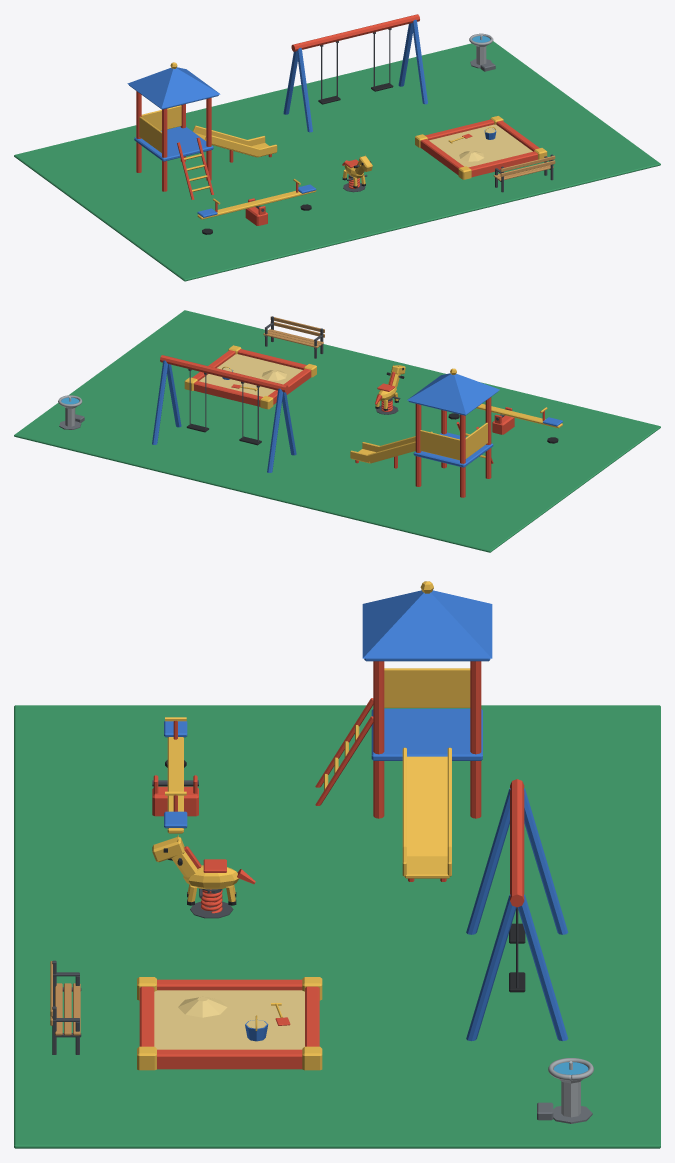
File: low-poly-playground-set.glb
3 renders of one model, top to bottom at view 1: azimuth 30°, elevation 25°; view 2: azimuth 150°, elevation 25°; view 3: azimuth 270°, elevation 25°, orthographic. The views are drawn at different scales.
Visible parts, largest first — view 1: RubberMat, Slide, Sandbox, SwingSet, Seesaw_Beam, Bench, WaterFountain, Horse, Seesaw; view 2: RubberMat, Slide, Sandbox, SwingSet, Bench, Horse, WaterFountain, Seesaw_Beam, Seesaw; view 3: RubberMat, Slide, Sandbox, SwingSet, Horse, WaterFountain, Seesaw_Beam, Bench, Seesaw, SpringRider_Horse.
Part boxes in pixels (x1=…): RubberMat: x1=14, y1=41, x2=660, y2=281; Slide: x1=127, y1=62, x2=277, y2=199; Sandbox: x1=415, y1=116, x2=547, y2=179; SwingSet: x1=283, y1=14, x2=427, y2=132; Seesaw_Beam: x1=197, y1=179, x2=316, y2=219; Bench: x1=493, y1=154, x2=555, y2=192; WaterFountain: x1=469, y1=33, x2=495, y2=71; Horse: x1=342, y1=155, x2=372, y2=188; Seesaw: x1=202, y1=198, x2=311, y2=234; RubberMat: x1=14, y1=310, x2=660, y2=552; Slide: x1=350, y1=368, x2=499, y2=497; Sandbox: x1=184, y1=345, x2=316, y2=409; SwingSet: x1=152, y1=355, x2=296, y2=472; Bench: x1=263, y1=316, x2=324, y2=358; Horse: x1=375, y1=364, x2=405, y2=410; WaterFountain: x1=58, y1=395, x2=84, y2=429; Seesaw_Beam: x1=476, y1=404, x2=562, y2=428; Seesaw: x1=448, y1=407, x2=558, y2=443; RubberMat: x1=14, y1=705, x2=660, y2=1148; Slide: x1=315, y1=581, x2=492, y2=881; Sandbox: x1=137, y1=977, x2=322, y2=1070; SwingSet: x1=466, y1=779, x2=568, y2=1041; Horse: x1=152, y1=834, x2=255, y2=905; WaterFountain: x1=537, y1=1058, x2=593, y2=1123; Seesaw_Beam: x1=164, y1=717, x2=187, y2=833; Bench: x1=50, y1=960, x2=81, y2=1054; Seesaw: x1=152, y1=760, x2=198, y2=860; SpringRider_Horse: x1=190, y1=889, x2=233, y2=918.
Size of the model in its own units: 58 by 13.43 by 36.
